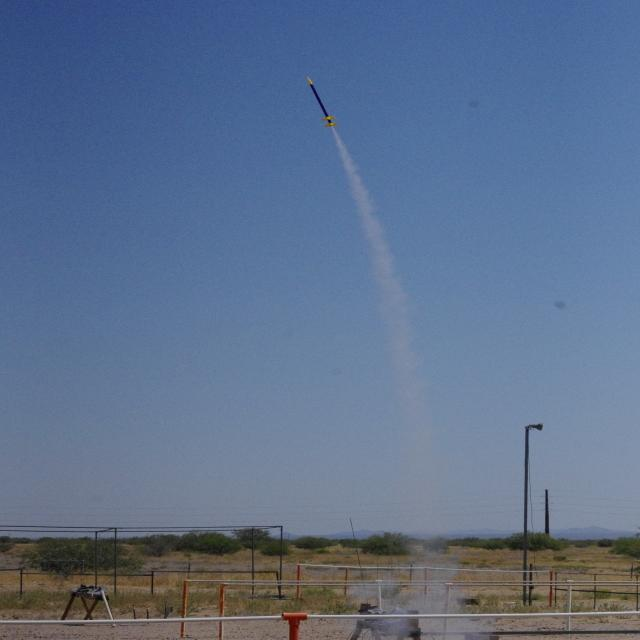Rocket: (307, 77, 338, 127)
